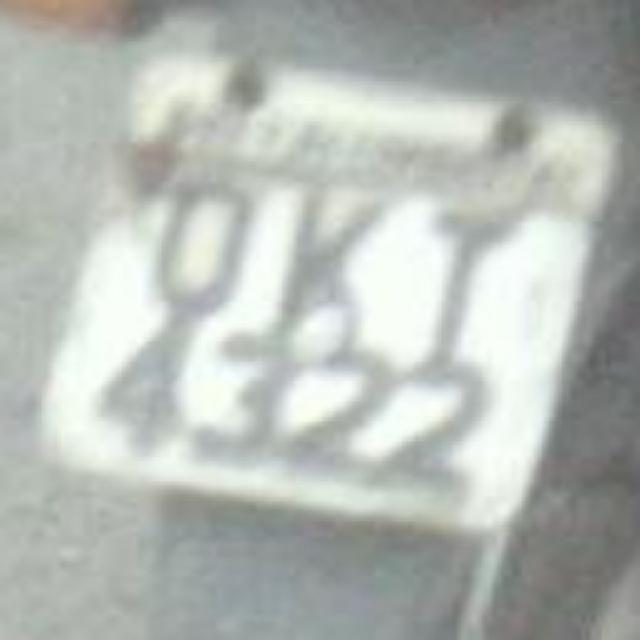2: (352, 345, 500, 500), (260, 324, 405, 471)
4: (85, 296, 200, 476)
K: (256, 176, 389, 349)
O: (140, 156, 260, 324)
T: (404, 200, 516, 340)
